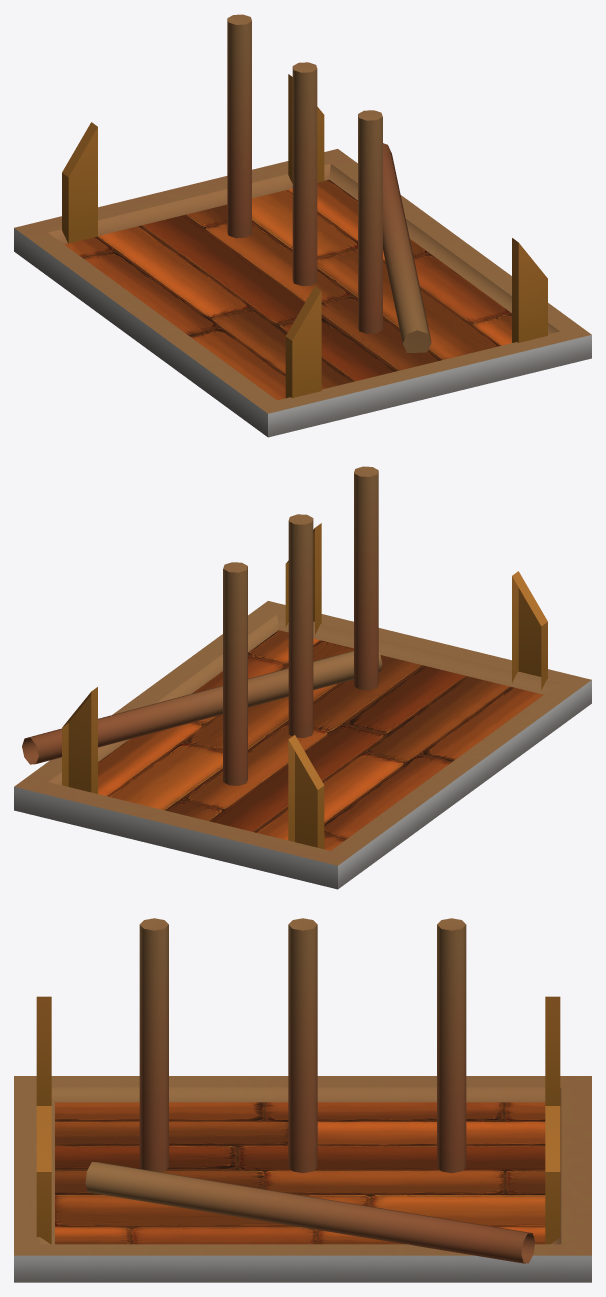
Rendered from VikingHouse_04_M.fbx.
The picture shows the model from 3 angles, top to bottom: view 1: azimuth 30°, elevation 25°; view 2: azimuth 150°, elevation 25°; view 3: azimuth 270°, elevation 25°; orthographic projection. The views are drawn at different scales.
Visible parts, largest first — view 1: VikingHouse_04_M; view 2: VikingHouse_04_M; view 3: VikingHouse_04_M.
Boxes of the visible parts, <box> form: VikingHouse_04_M: <box>14,14,591,437</box>; VikingHouse_04_M: <box>14,466,591,889</box>; VikingHouse_04_M: <box>14,918,591,1282</box>.
Size of the model in its own units: 307 by 200 by 389.
1 material, 1 textured.
